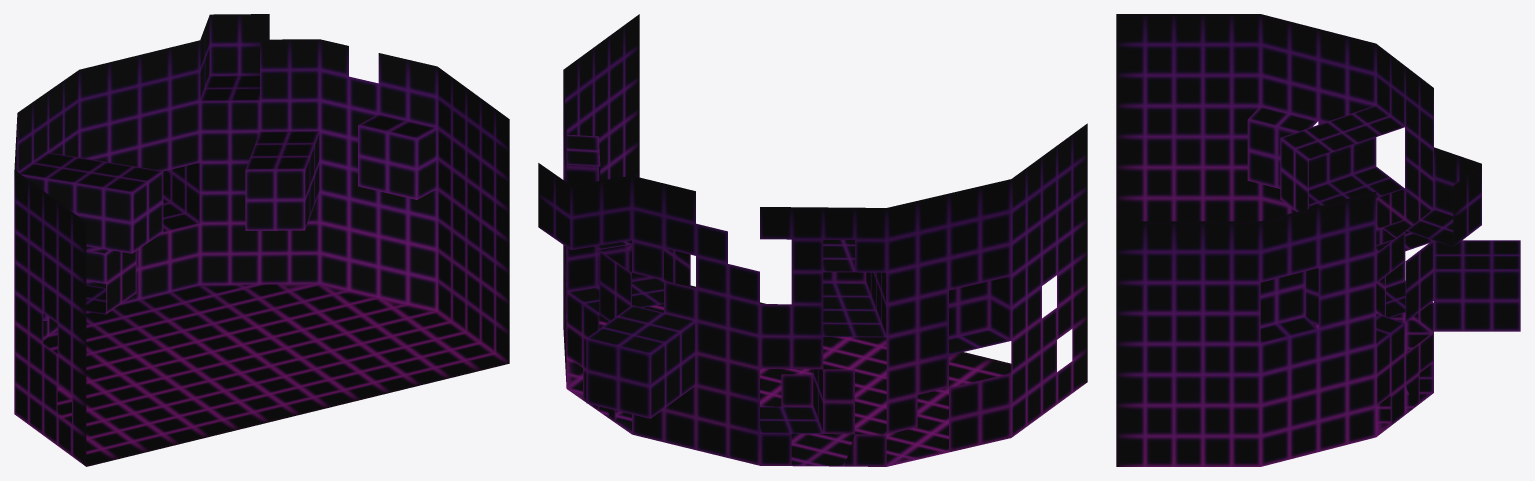
Rendered from CVS2-Training-Stage.glb.
The picture shows the model from 3 angles, left to right: view 1: azimuth 30°, elevation 25°; view 2: azimuth 150°, elevation 25°; view 3: azimuth 270°, elevation 25°; orthographic projection. The views are drawn at different scales.
Visible parts, largest first — view 1: Mesh_470, Mesh_46, Mesh_422, Mesh_107, Mesh_113, Mesh_133, Mesh_383, Mesh_105, Mesh_119, Mesh_120, Mesh_121, Mesh_131 (+78 smaller); view 2: Mesh_384, Mesh_124, Mesh_109, Mesh_162, Mesh_163, Mesh_455, Mesh_110, Mesh_167, Mesh_194, Mesh_404, Mesh_180, Mesh_106 (+71 smaller); view 3: Mesh_125, Mesh_261, Mesh_418, Mesh_253, Mesh_257, Mesh_39, Mesh_43, Mesh_53, Mesh_58, Mesh_61, Mesh_62, Mesh_65 (+162 smaller).
Part boxes in pixels (<box>): Mesh_470: <box>86,292,183,324</box>; Mesh_46: <box>245,169,275,200</box>; Mesh_422: <box>289,69,319,100</box>; Mesh_107: <box>170,101,200,139</box>; Mesh_113: <box>139,261,169,299</box>; Mesh_133: <box>79,62,109,100</box>; Mesh_383: <box>139,47,169,85</box>; Mesh_105: <box>170,40,200,77</box>; Mesh_119: <box>109,116,139,153</box>; Mesh_120: <box>79,93,109,130</box>; Mesh_121: <box>109,55,139,92</box>; Mesh_131: <box>170,132,200,169</box>; Mesh_384: <box>791,336,823,369</box>; Mesh_124: <box>618,346,650,386</box>; Mesh_109: <box>586,338,618,378</box>; Mesh_162: <box>791,239,823,272</box>; Mesh_163: <box>791,207,823,239</box>; Mesh_455: <box>586,371,618,410</box>; Mesh_110: <box>618,379,650,418</box>; Mesh_167: <box>791,304,823,336</box>; Mesh_194: <box>791,272,823,304</box>; Mesh_404: <box>855,207,886,240</box>; Mesh_180: <box>823,401,854,434</box>; Mesh_106: <box>664,216,695,255</box>; Mesh_125: <box>1491,300,1520,331</box>; Mesh_261: <box>1116,136,1145,167</box>; Mesh_418: <box>1116,313,1145,344</box>; Mesh_253: <box>1116,44,1145,75</box>; Mesh_257: <box>1116,167,1145,198</box>; Mesh_39: <box>1116,282,1145,313</box>; Mesh_43: <box>1116,405,1145,436</box>; Mesh_53: <box>1276,285,1305,323</box>; Mesh_58: <box>1289,421,1318,459</box>; Mesh_61: <box>1347,345,1376,383</box>; Mesh_62: <box>1318,322,1347,359</box>; Mesh_65: <box>1347,222,1376,260</box>.
Size of the model in its own units: 79.66 by 44 by 65.66.
1 material, 1 textured.
